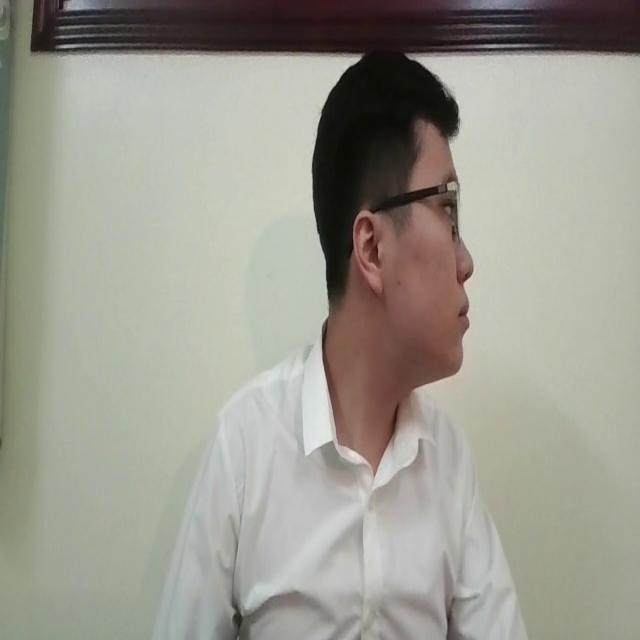student: (150, 42, 535, 640)
